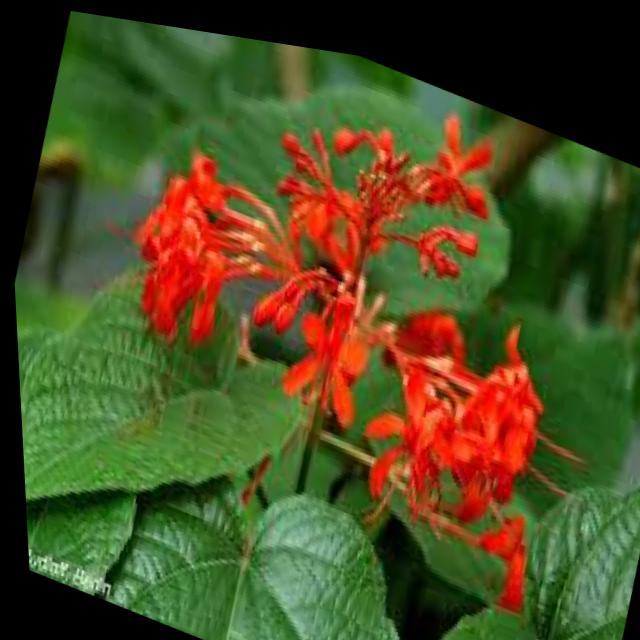Flower: (85, 26, 639, 607)
